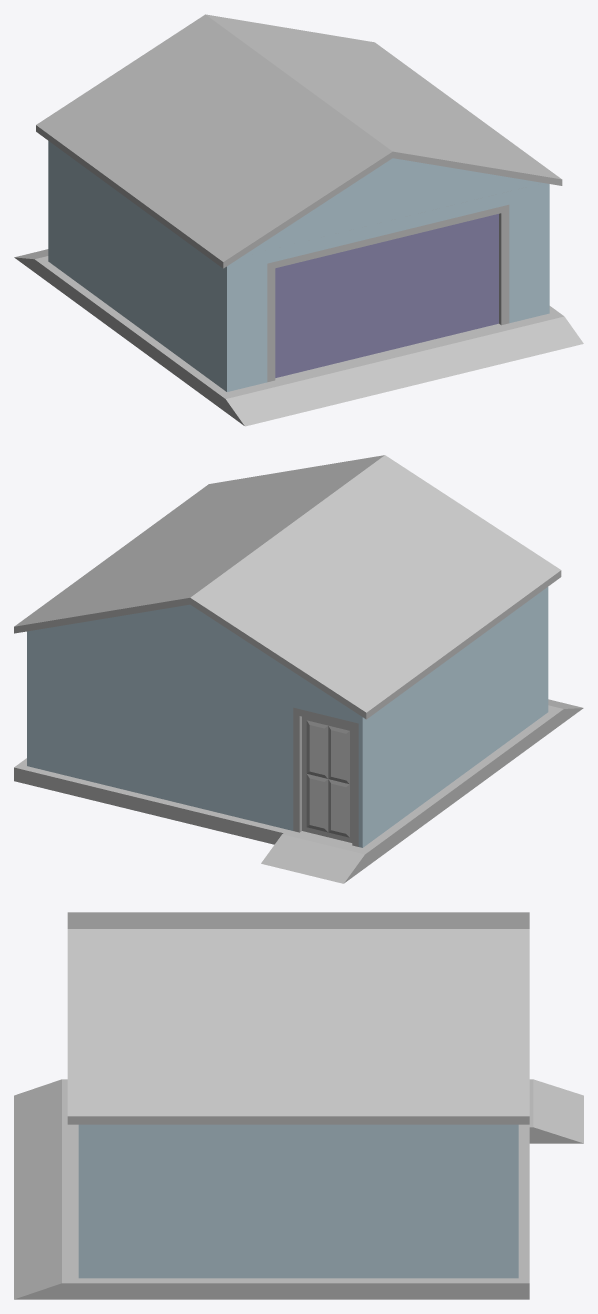
File: Shed #6.fbx
The picture shows the model from 3 angles, top to bottom: view 1: azimuth 30°, elevation 25°; view 2: azimuth 150°, elevation 25°; view 3: azimuth 270°, elevation 25°; orthographic projection. The views are drawn at different scales.
Visible parts, largest first — view 1: building_001; view 2: building_001; view 3: building_001.
Boxes of the visible parts, x1,y1,x2,y2 form: building_001: (14,14,583,426); building_001: (14,455,583,883); building_001: (14,912,583,1299).
Size of the model in its own units: 538 by 330 by 635.
